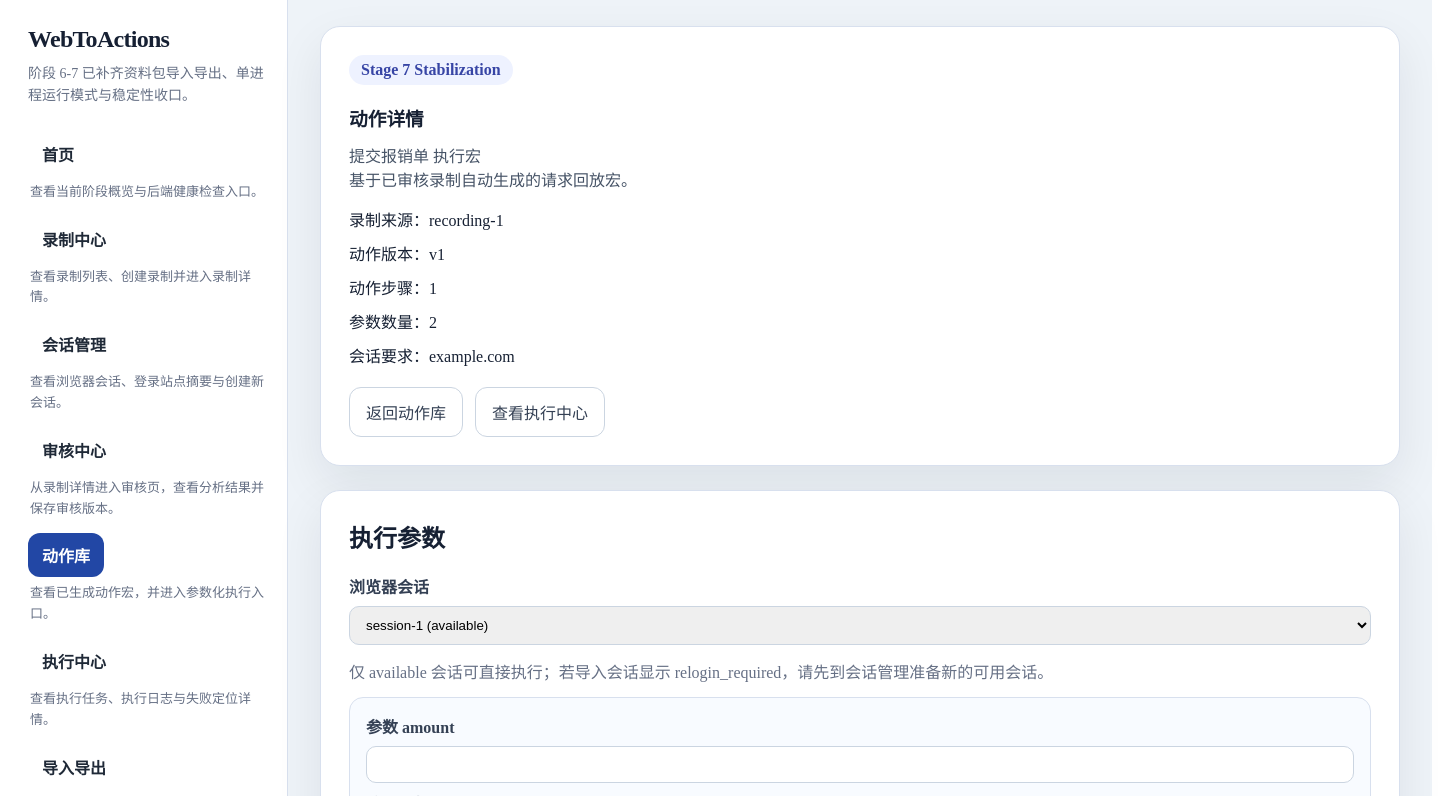
Test: App › prefers an available browser session over imported relogin_required sessions
Select "session-1 (available)" in the dropdown labelled "浏览器会话" at [860, 625], box [349, 606, 1371, 645]
Type "208" into the field labelled "参数 amount" at [860, 764], box [366, 746, 1354, 783]
(page scrolled)
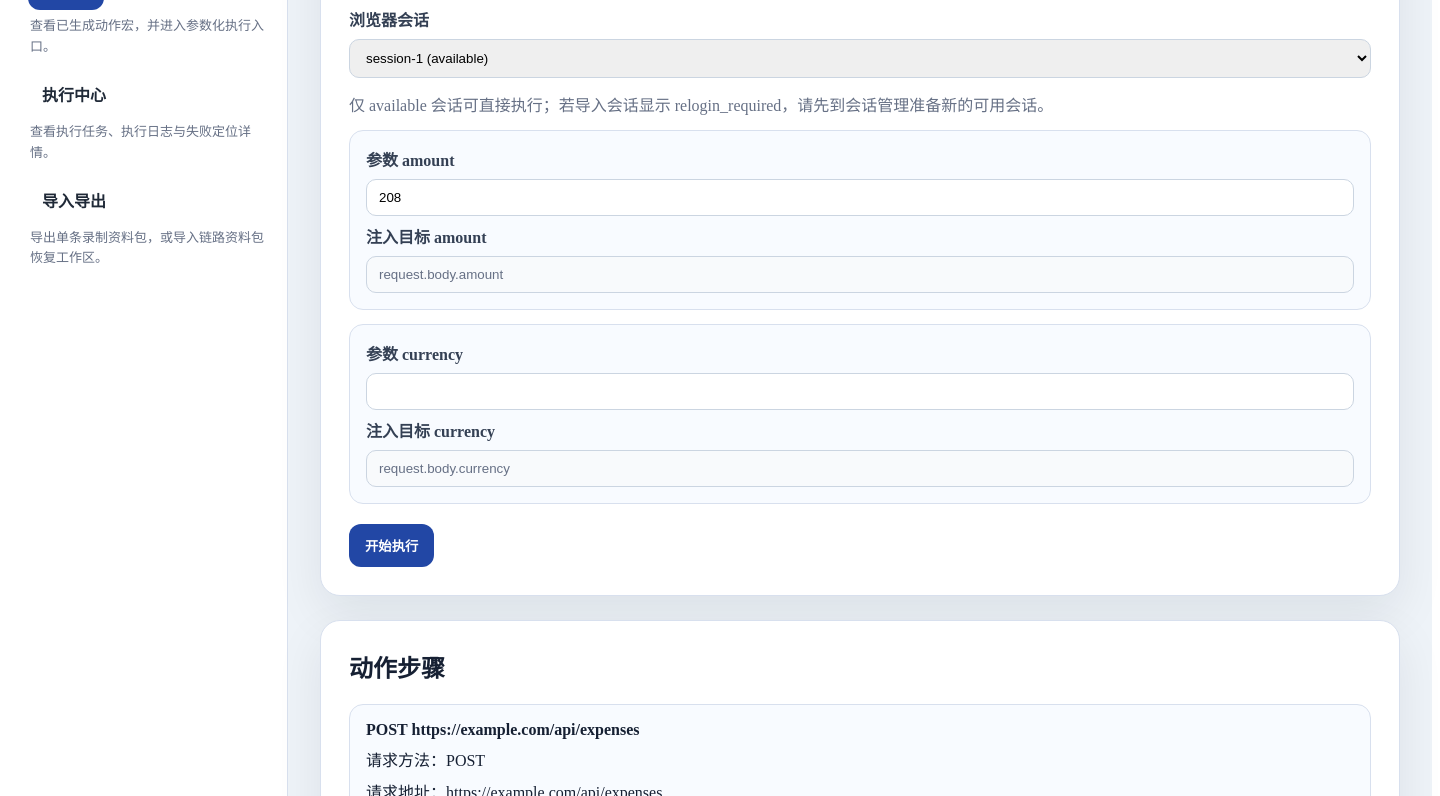
Type "USD" into the field labelled "参数 currency" at [860, 391], box [366, 373, 1354, 410]
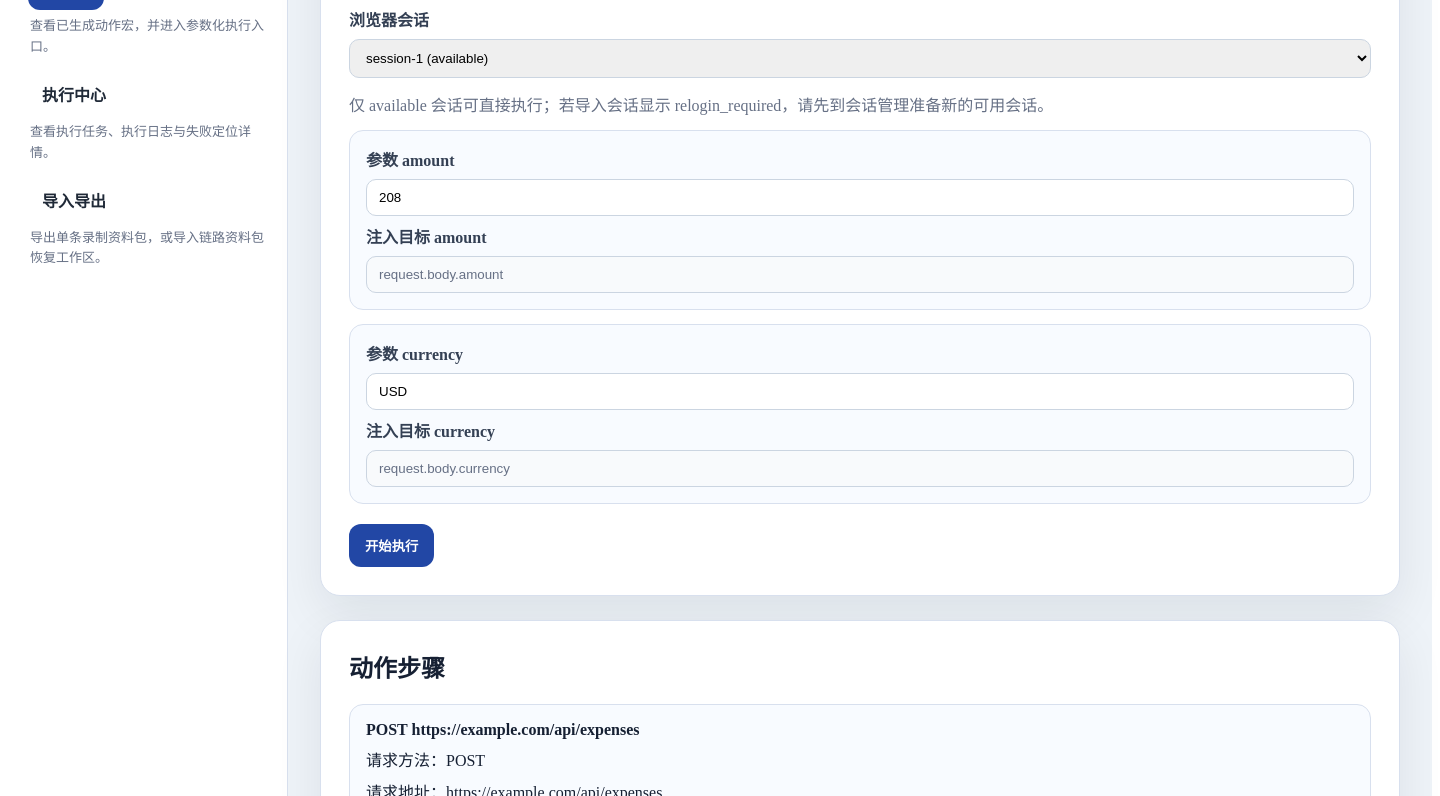
Click the button "开始执行" at [392, 545], box [349, 524, 434, 567]
(page scrolled)
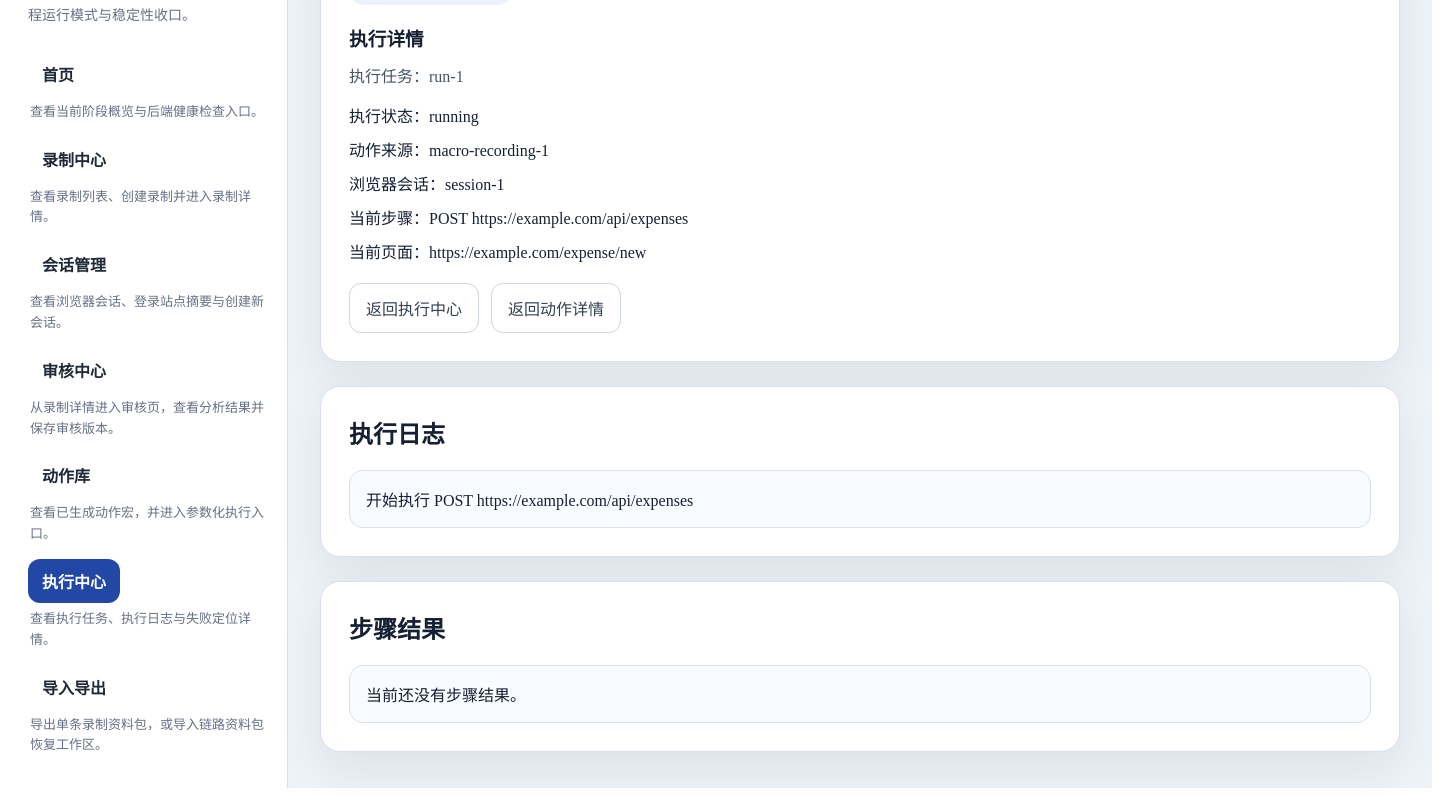
Check: the heading "执行详情" is shown, box [349, 29, 424, 50]
